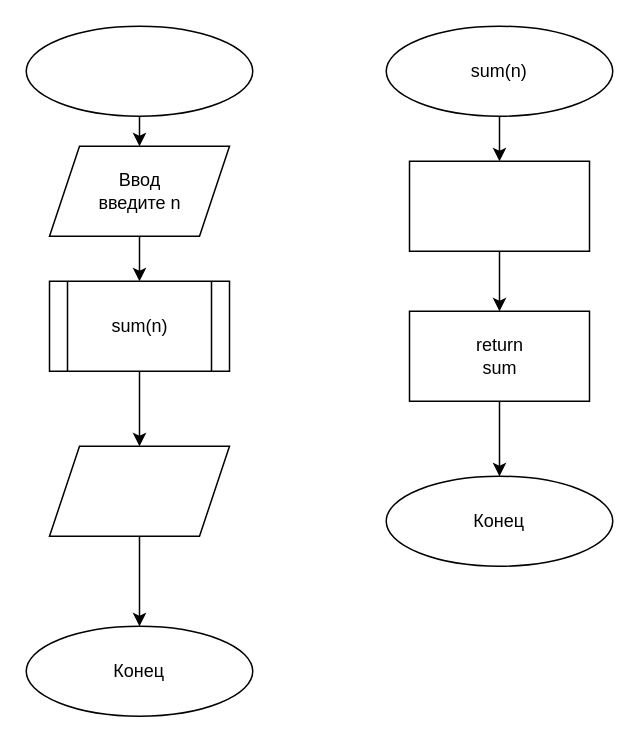
The diagram is 639 pixels wide and 743 high, and some of its shapes have lost their labels. The shapes that lost their labels are listed below. From the top down, each one's centre as x and y in pixels, then its label:
At (x=139, y=70): "Начало".
At (x=499, y=205): "sum = (pow(-0.5,n)-1)/-0.5-1".
At (x=139, y=490): "Вывод результат".
